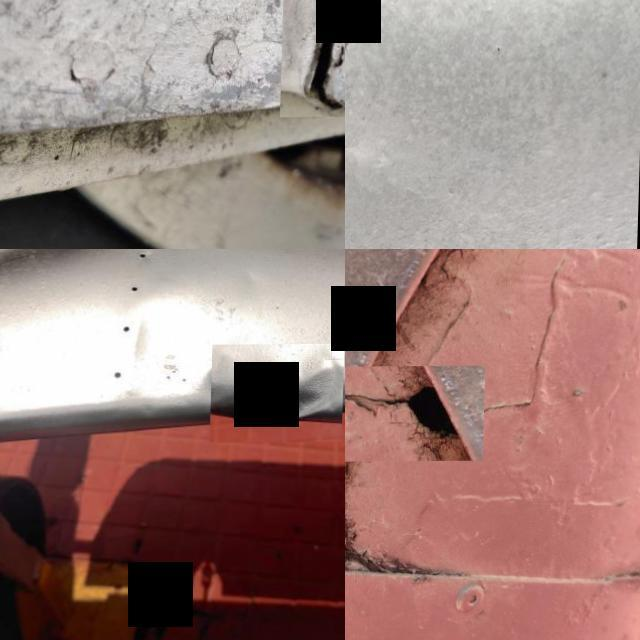Crack: (345, 366, 486, 462), (282, 0, 345, 117)
Dent: (212, 344, 345, 443), (0, 249, 206, 308)
